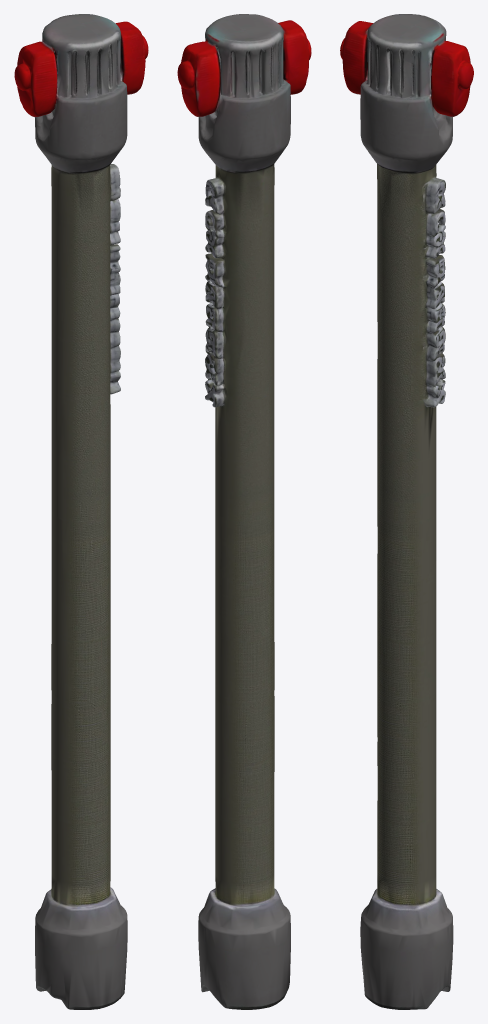
The model's file is wand.glb.
The picture shows the model from 3 angles, left to right: view 1: azimuth 30°, elevation 25°; view 2: azimuth 210°, elevation 25°; view 3: azimuth 330°, elevation 25°; orthographic projection.
Parts seen in each view (by area): view 1: tripo_node_bbd11212-4d75-457b-9319-a2a52dd5f7b8; view 2: tripo_node_bbd11212-4d75-457b-9319-a2a52dd5f7b8; view 3: tripo_node_bbd11212-4d75-457b-9319-a2a52dd5f7b8.
Part boxes in pixels (x1,y1,x2,y2): tripo_node_bbd11212-4d75-457b-9319-a2a52dd5f7b8: (14, 14, 148, 1009); tripo_node_bbd11212-4d75-457b-9319-a2a52dd5f7b8: (177, 14, 311, 1009); tripo_node_bbd11212-4d75-457b-9319-a2a52dd5f7b8: (340, 14, 473, 1009).
Bounding box in the file's own units: 0.138 × 1 × 0.0839.
1 material, 1 textured.
